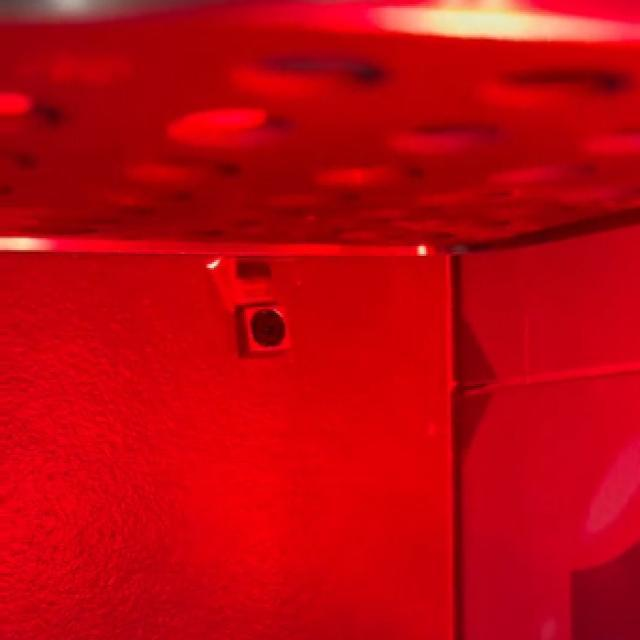hidden camera: (258, 313, 280, 340)
